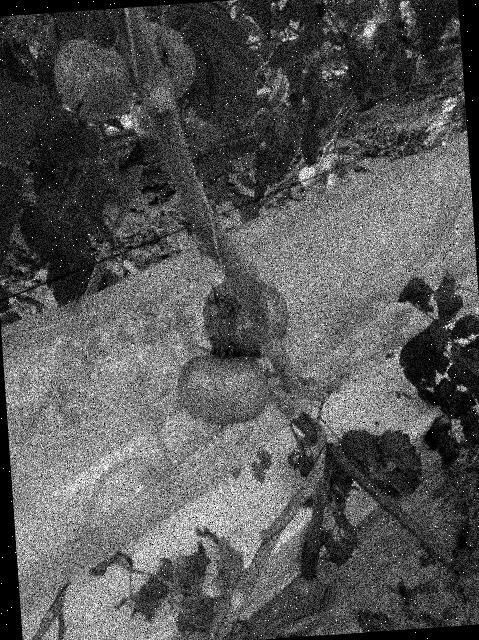b_fully_ripened: (318, 152, 347, 178)
b_green: (50, 34, 134, 125), (175, 350, 268, 427), (117, 19, 198, 106), (176, 103, 221, 151), (126, 93, 150, 137), (323, 172, 351, 190)
b_half_ripened: (199, 272, 291, 364), (298, 163, 325, 190)
